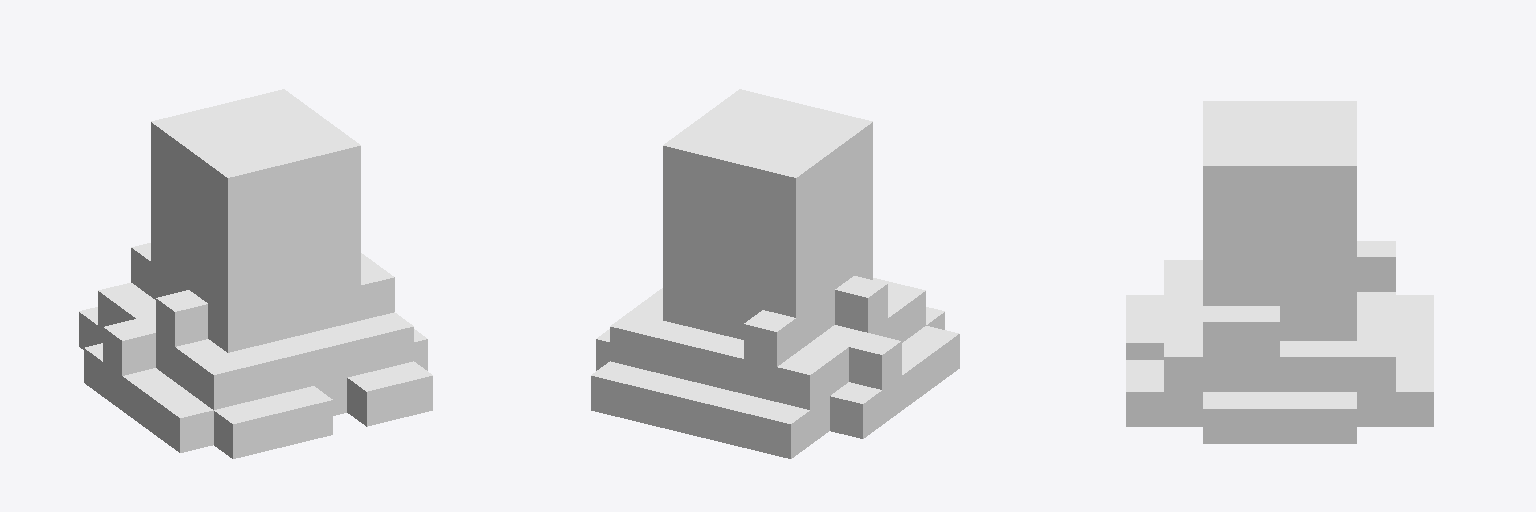
File: Trees-2.obj
3 views of the same model, side by side, from view 1: azimuth 30°, elevation 25°; view 2: azimuth 150°, elevation 25°; view 3: azimuth 270°, elevation 25° (orthographic).
Visible parts, largest first — view 1: object 1; view 2: object 1; view 3: object 1.
Boxes of the visible parts, x1=… form: object 1: x1=79, y1=89, x2=432, y2=458; object 1: x1=591, y1=89, x2=959, y2=458; object 1: x1=1126, y1=101, x2=1433, y2=443.
Bounding box in the file's own units: 0.8 × 0.7 × 0.8.